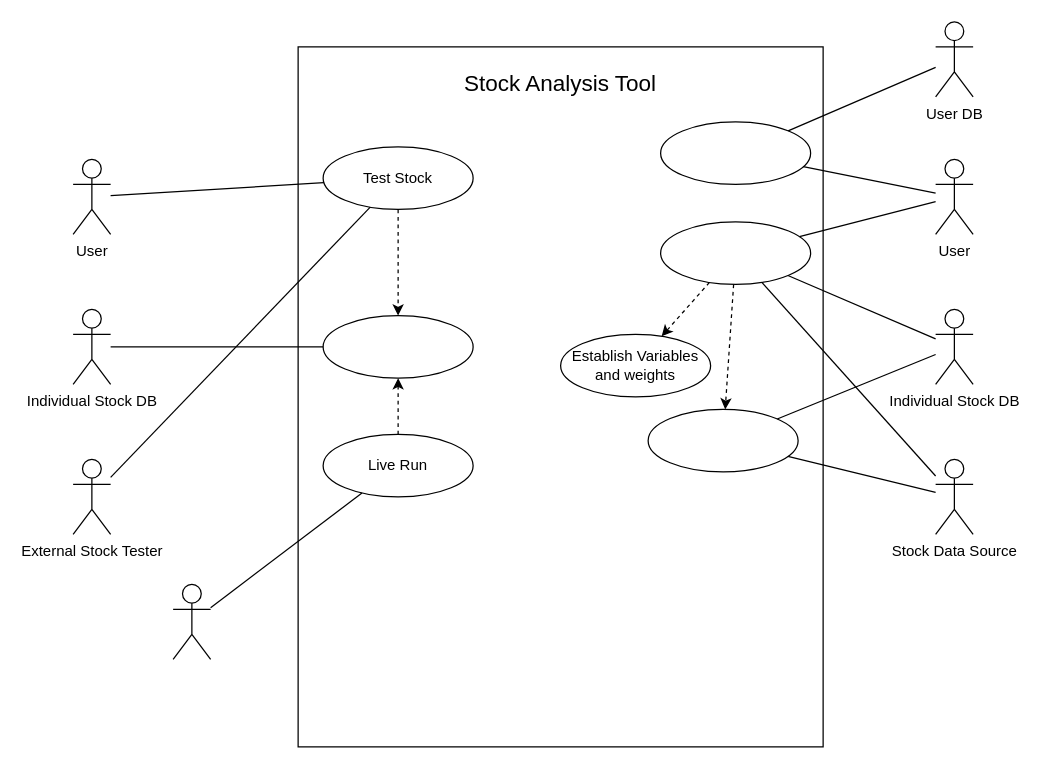
This 1041x769 diagram has some shape labels left out. The box of each missing label's shape, as (x1, y1, x2, y2) in pixels:
Analyze Stock data: (647, 408, 798, 472)
Check for known patterns: (322, 314, 473, 378)
Live Stock Feed: (172, 583, 211, 659)
Login: (659, 121, 811, 184)
Make analysis Request: (659, 221, 811, 284)
